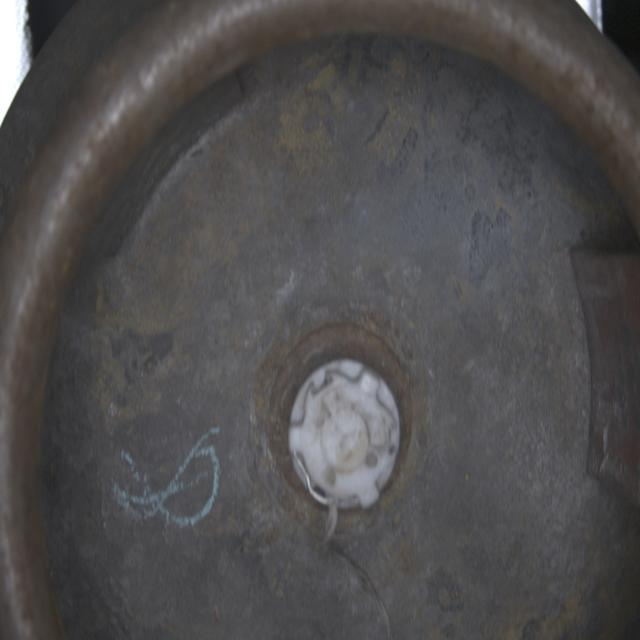Cap: (284, 356, 406, 510)
